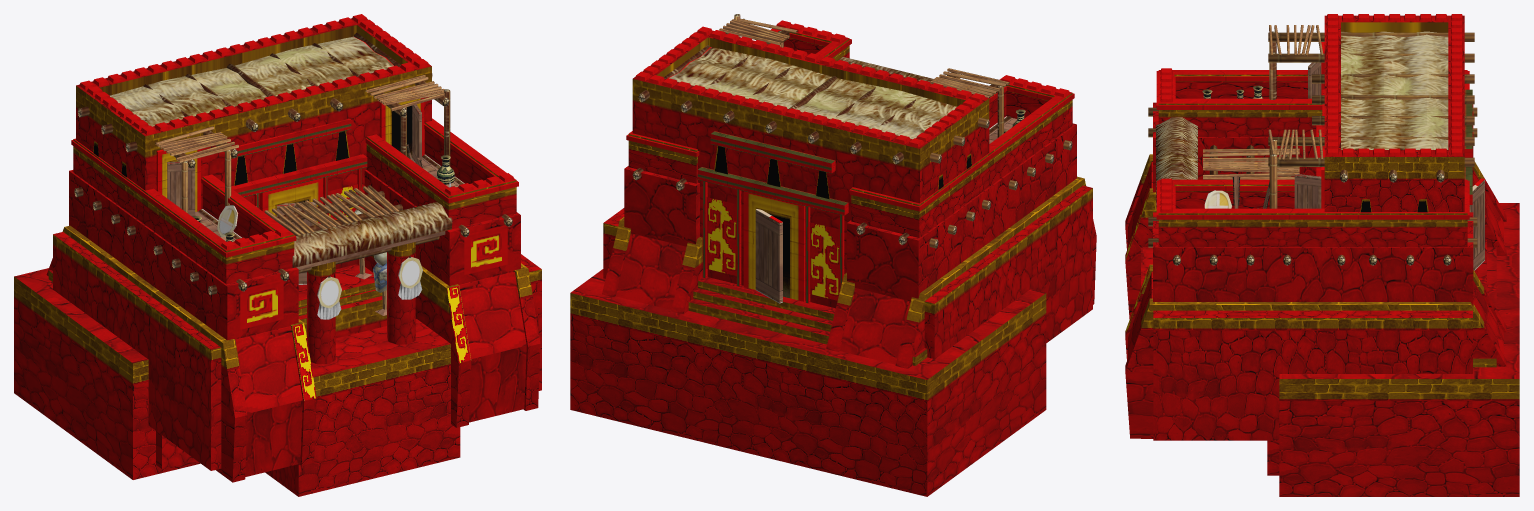
The model's file is zapo_barracks.dae.
3 renders of one model, left to right at view 1: azimuth 30°, elevation 25°; view 2: azimuth 150°, elevation 25°; view 3: azimuth 270°, elevation 25°, orthographic.
Parts seen in each view (by area): view 1: Barracks; view 2: Barracks; view 3: Barracks.
Boxes of the visible parts, box(x1,y1,x2,y2) form: Barracks: box(14, 14, 541, 496); Barracks: box(570, 14, 1096, 496); Barracks: box(1125, 14, 1519, 496).
Bounding box in the file's own units: 22.39 × 21.22 × 19.34.
